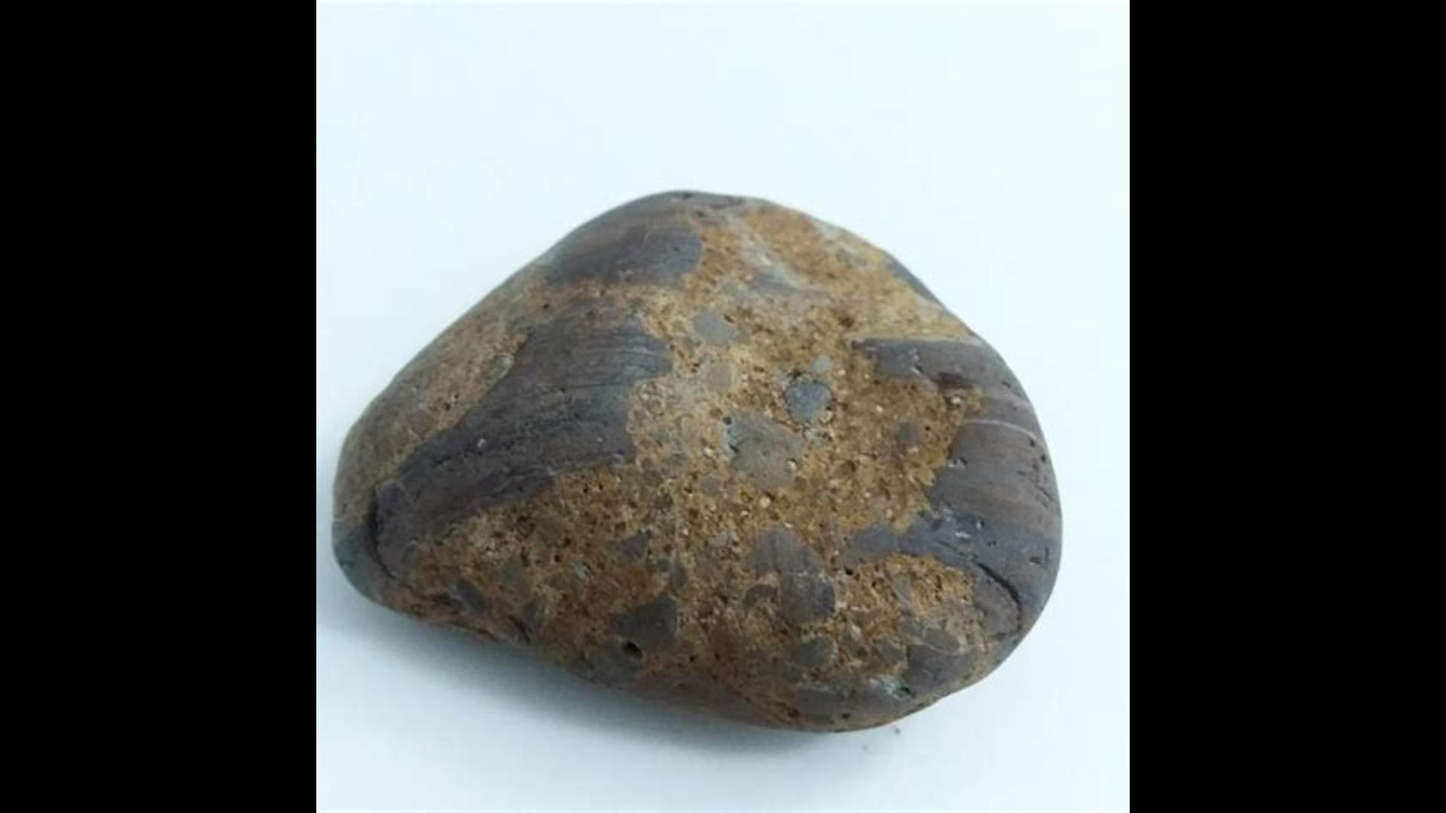rock: (333, 194, 1058, 726)
